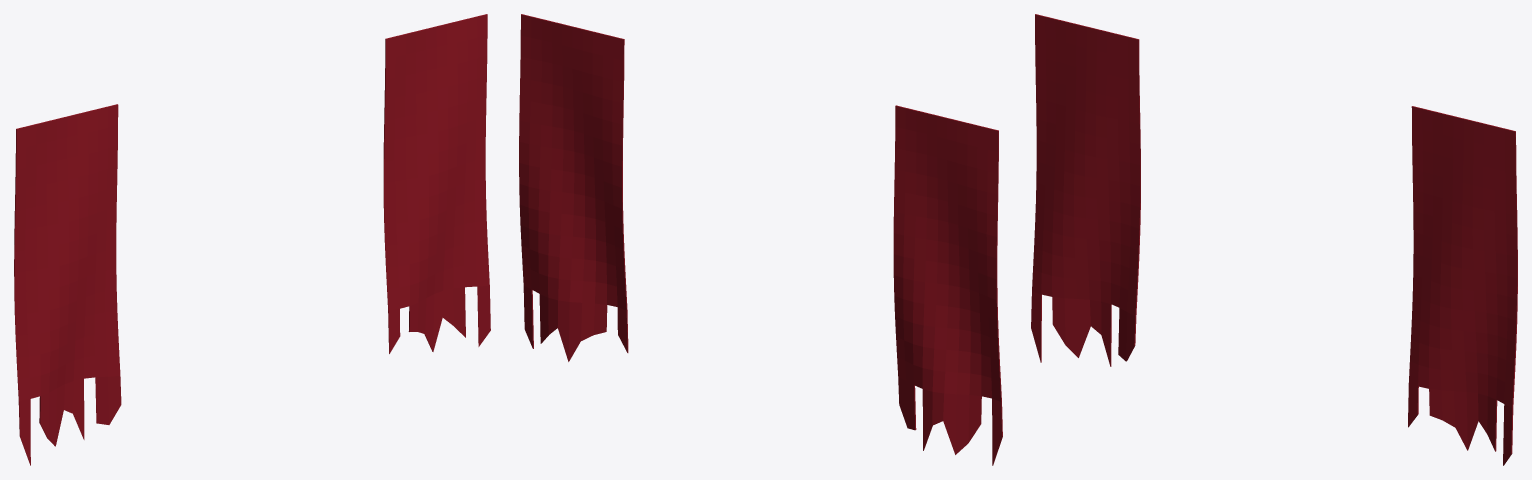
The model's file is BigBanners.fbx.
3 views of the same model, side by side, from view 1: azimuth 30°, elevation 25°; view 2: azimuth 150°, elevation 25°; view 3: azimuth 330°, elevation 25° (orthographic). The views are drawn at different scales.
Visible parts, largest first — view 1: BigBanner-1.001; view 2: BigBanner-1.001; view 3: BigBanner-1.001.
Boxes of the visible parts, x1,y1,x2,y2 form: BigBanner-1.001: (14, 14, 490, 465); BigBanner-1.001: (519, 14, 1002, 465); BigBanner-1.001: (1031, 14, 1517, 465).
Size of the model in its own units: 5104 by 3477 by 171.
